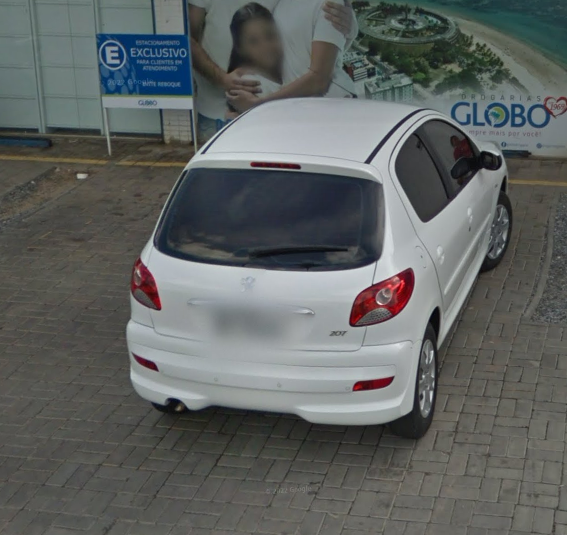car: (125, 88, 517, 442)
